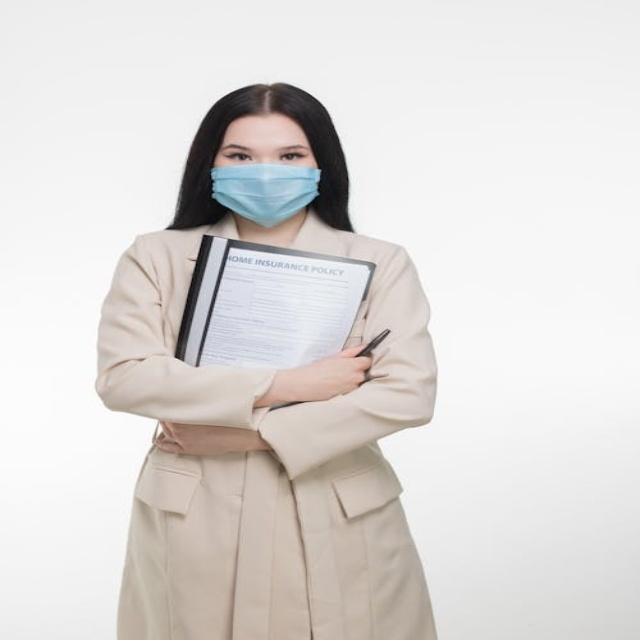Mascara: (208, 162, 322, 226)
Sin_gafas: (224, 152, 252, 161), (280, 152, 306, 161)
Sin_guantes: (283, 344, 371, 404)
